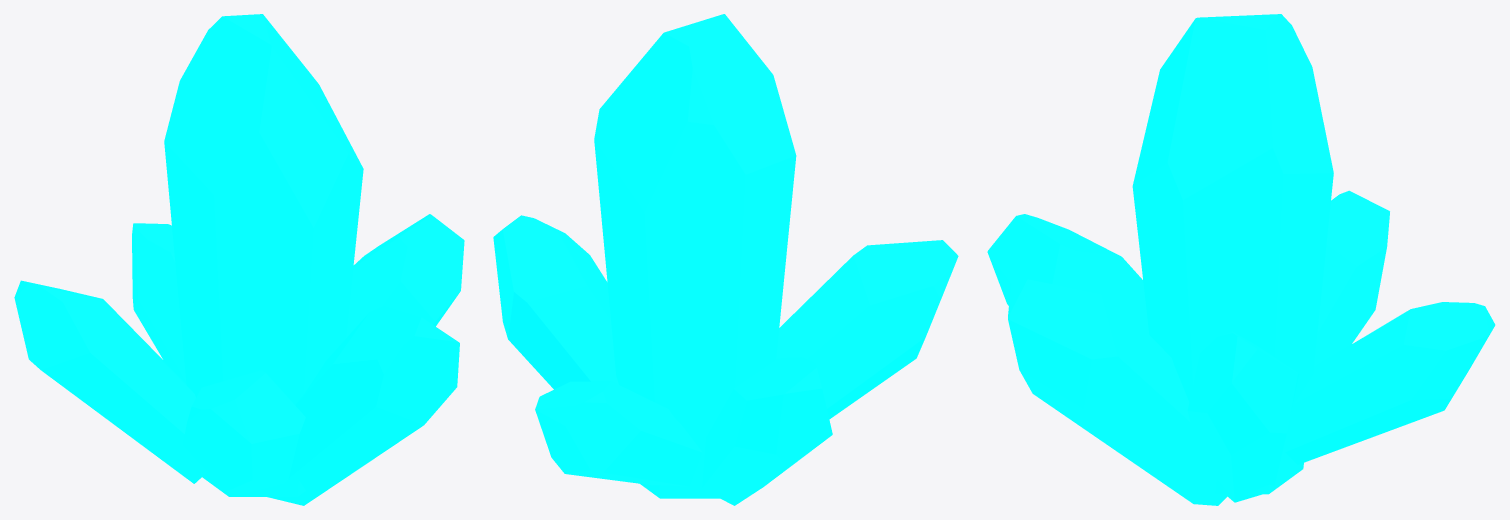
Rendered from HexStone01.fbx.
3 renders of one model, left to right at view 1: azimuth 30°, elevation 25°; view 2: azimuth 150°, elevation 25°; view 3: azimuth 270°, elevation 25°, orthographic.
Parts seen in each view (by area): view 1: HexStoneBase.001, HexStoneBase.003, HexStoneBase.005, HexStoneBase.004, HexStoneBase.002, HexStoneBase.006; view 2: HexStoneBase.001, HexStoneBase.004, HexStoneBase.002, HexStoneBase.006, HexStoneBase.005; view 3: HexStoneBase.001, HexStoneBase.003, HexStoneBase.006, HexStoneBase.002, HexStoneBase.004, HexStoneBase.005.
Part boxes in pixels (x1,y1,x2,y2): HexStoneBase.001: (164,14,363,496); HexStoneBase.003: (267,305,459,505); HexStoneBase.005: (14,280,207,483); HexStoneBase.004: (183,370,305,495); HexStoneBase.002: (346,214,464,337); HexStoneBase.006: (132,223,186,383); HexStoneBase.001: (594,14,796,498); HexStoneBase.004: (776,240,958,419); HexStoneBase.002: (493,215,618,389); HexStoneBase.006: (535,381,702,486); HexStoneBase.005: (702,357,832,505); HexStoneBase.001: (1132,14,1333,494); HexStoneBase.003: (1008,279,1229,505); HexStoneBase.006: (1285,302,1495,464); HexStoneBase.002: (1187,331,1299,502); HexStoneBase.004: (987,214,1149,334); HexStoneBase.005: (1314,190,1389,366).
Size of the model in its own units: 232 by 268 by 261.
